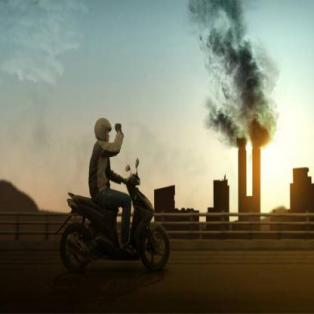Motocicleta: (53, 168, 172, 277)
